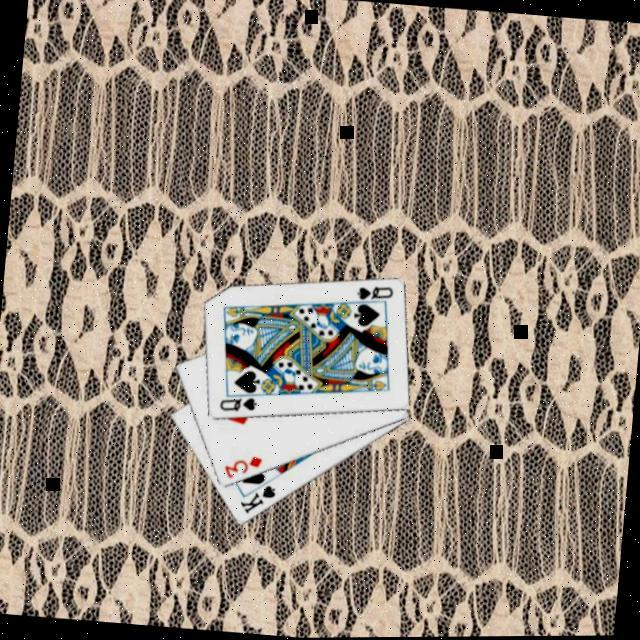3D: (218, 448, 264, 482)
KS: (233, 478, 277, 517)
QS: (214, 390, 258, 414), (351, 280, 394, 304)
